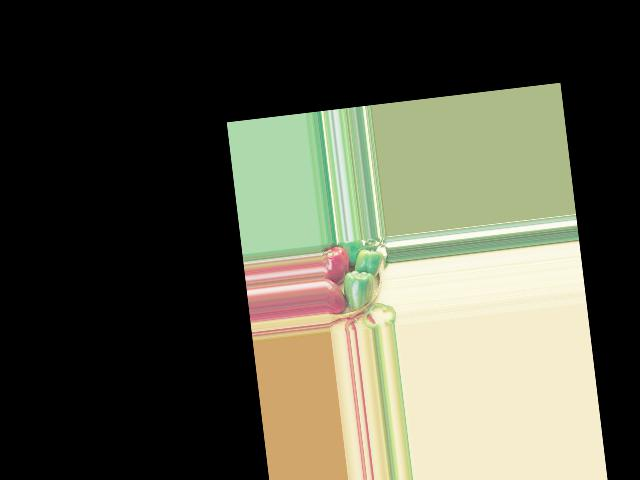bell_pepper: (324, 275, 345, 315)
